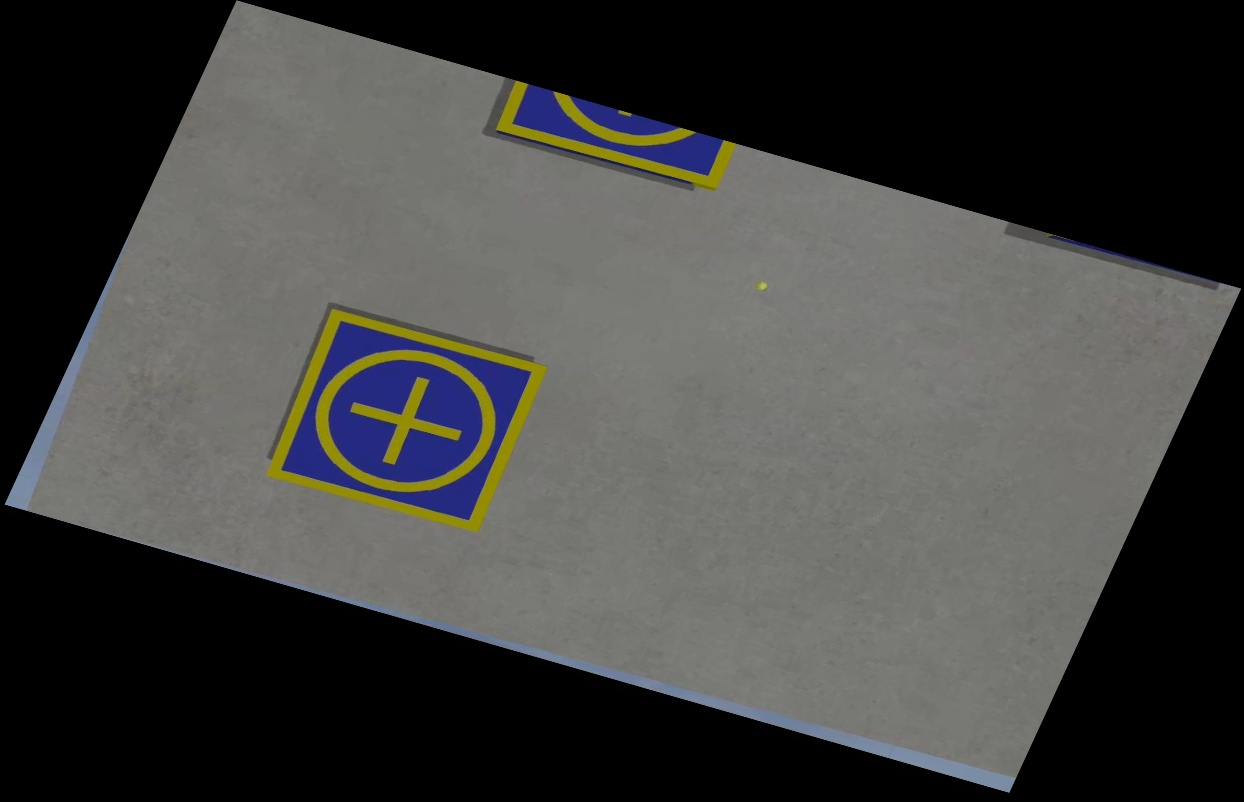small_base: (257, 306, 552, 537), (494, 81, 738, 196)
